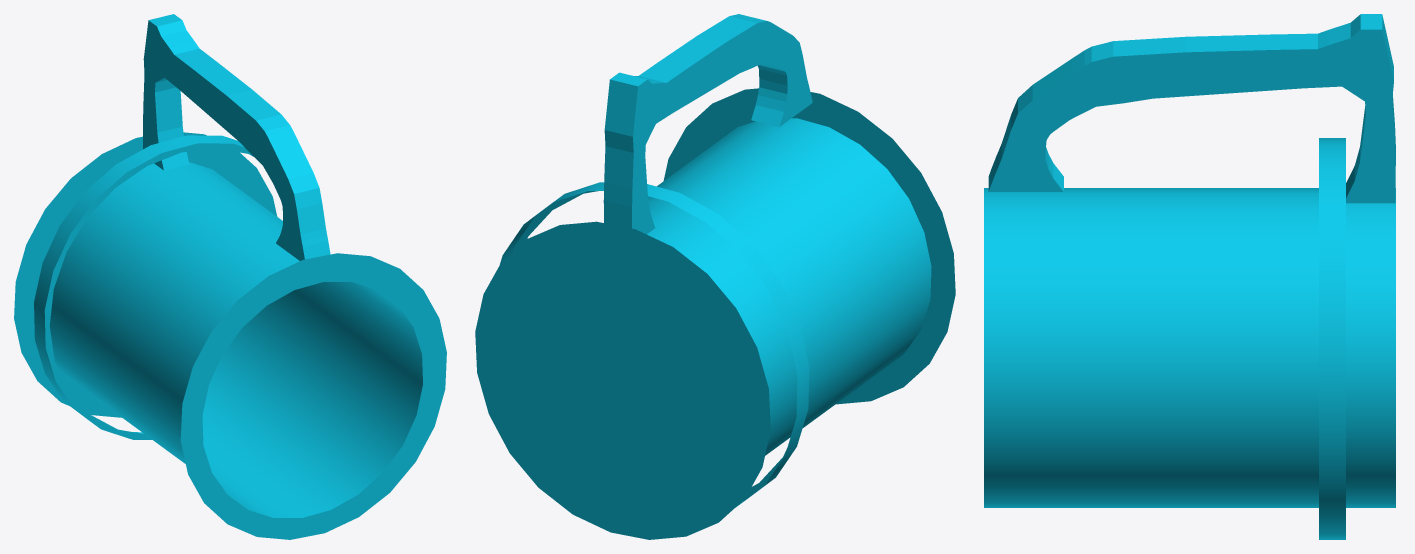
3 renders of one model, left to right at view 1: azimuth 30°, elevation 25°; view 2: azimuth 150°, elevation 25°; view 3: azimuth 270°, elevation 25°, orthographic. The views are drawn at different scales.
Size of the model in its own units: 0.4929 by 0.6816 by 0.5139.
